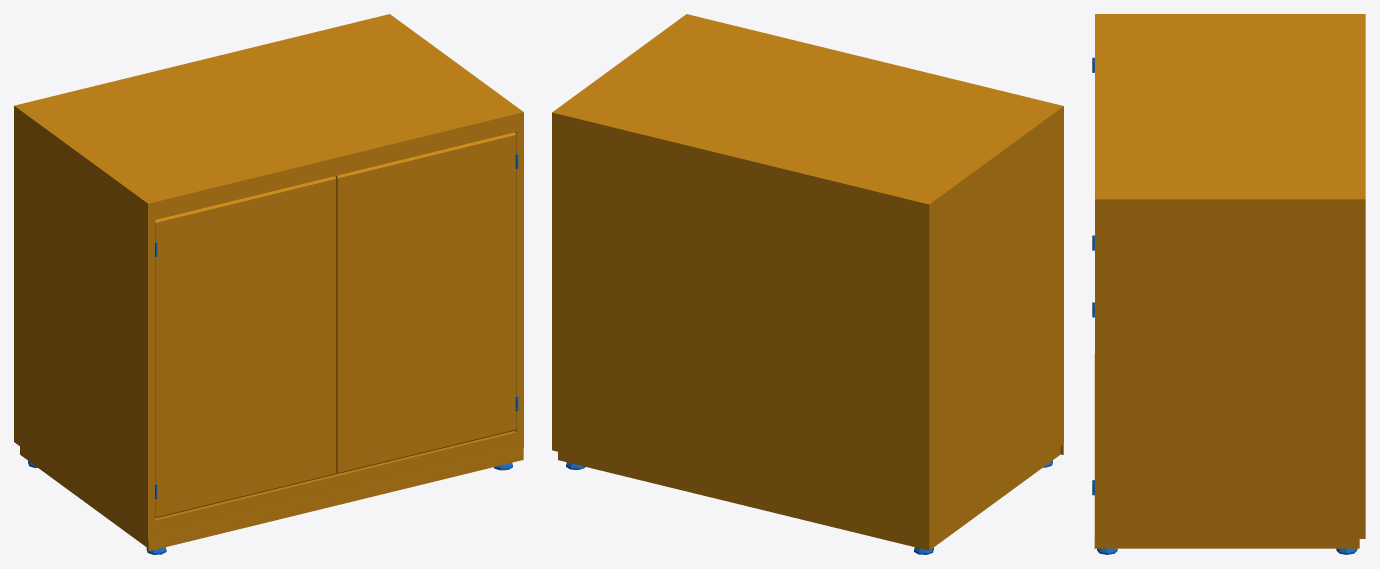
File: Schrank_02.fbx
The picture shows the model from 3 angles, left to right: view 1: azimuth 30°, elevation 25°; view 2: azimuth 150°, elevation 25°; view 3: azimuth 270°, elevation 25°; orthographic projection.
Visible parts, largest first — view 1: CubeSolid_6, CubeSolid, CubeSolid_34, CubeSolid_45, CubeSolid_38, CubeSolid_35, CubeSolid_14, CubeSolid_46, CubeSolid_29, CubeSolid_48, CubeSolid_16, CubeSolid_30 (+4 smaller); view 2: CubeSolid_40, CubeSolid_34, CubeSolid_45, CubeSolid_13, CubeSolid_43, CubeSolid_41, CubeSolid_44, CubeSolid_48, CubeSolid_42, CubeSolid_16, CubeSolid_30; view 3: CubeSolid_28, CubeSolid_34, CubeSolid_15, CubeSolid_30, CubeSolid_48, CubeSolid_31.
Boxes of the visible parts, box(x1,y1,x2,y2) form: CubeSolid_6: box(155, 179, 335, 517); CubeSolid: box(337, 135, 516, 472); CubeSolid_34: box(22, 16, 516, 202); CubeSolid_45: box(14, 106, 148, 539); CubeSolid_38: box(155, 432, 516, 537); CubeSolid_35: box(155, 114, 516, 219); CubeSolid_14: box(148, 448, 523, 551); CubeSolid_46: box(144, 209, 155, 532); CubeSolid_29: box(515, 119, 523, 442); CubeSolid_48: box(14, 104, 155, 210); CubeSolid_16: box(20, 447, 148, 547); CubeSolid_30: box(383, 14, 523, 120); CubeSolid_40: box(552, 113, 929, 541); CubeSolid_34: box(559, 16, 1056, 202); CubeSolid_45: box(929, 106, 1063, 541); CubeSolid_13: box(558, 452, 929, 550); CubeSolid_43: box(922, 209, 933, 533); CubeSolid_41: box(559, 445, 922, 540); CubeSolid_44: box(552, 120, 559, 444); CubeSolid_48: box(922, 104, 1063, 211); CubeSolid_42: box(560, 115, 921, 209); CubeSolid_16: box(929, 446, 1060, 550); CubeSolid_30: box(552, 14, 693, 121); CubeSolid_28: box(1095, 199, 1365, 538); CubeSolid_34: box(1095, 17, 1365, 195); CubeSolid_15: box(1095, 539, 1359, 548); CubeSolid_30: box(1095, 195, 1365, 206); CubeSolid_48: box(1095, 14, 1365, 17); CubeSolid_31: box(1096, 532, 1365, 538).
Bounding box in the file's own units: 105 × 95 × 65.6.
